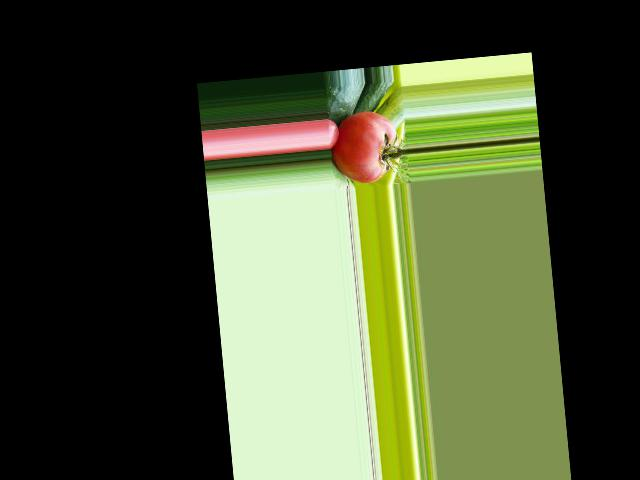tomato: (328, 109, 401, 186)
